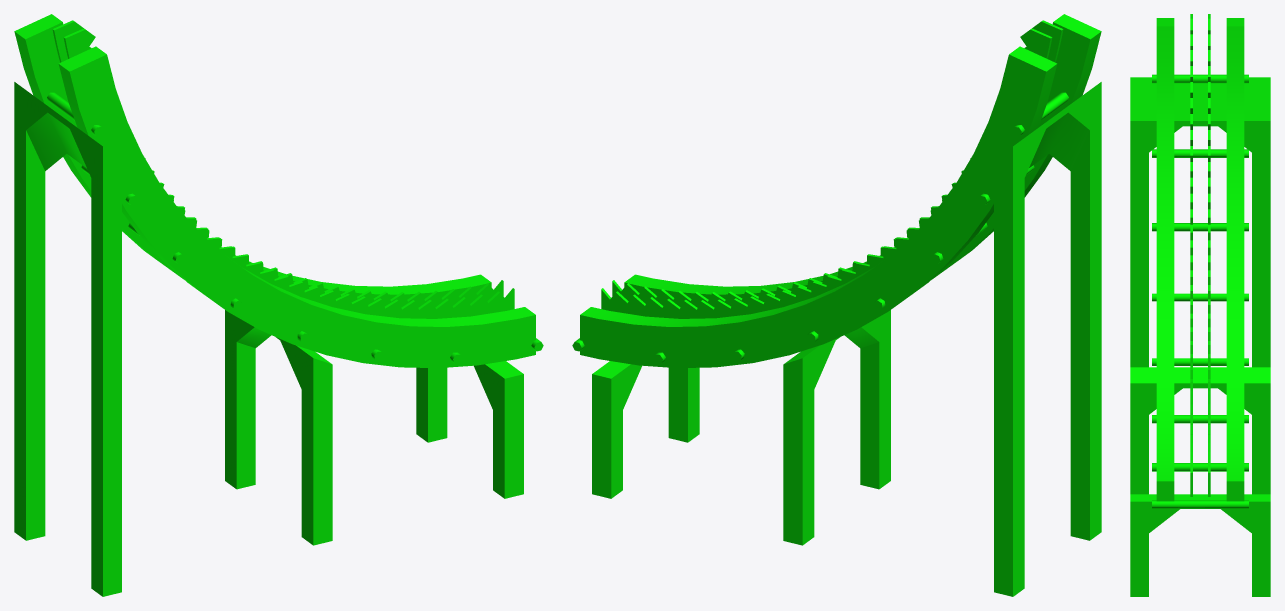
Rendered from Casting_EndCurve.fbx.
The picture shows the model from 3 angles, left to right: view 1: azimuth 30°, elevation 25°; view 2: azimuth 150°, elevation 25°; view 3: azimuth 270°, elevation 25°; orthographic projection. The views are drawn at different scales.
Parts seen in each view (by area): view 1: Casting_EndCurve_LOD0; view 2: Casting_EndCurve_LOD0; view 3: Casting_EndCurve_LOD0.
Part boxes in pixels (x1,y1,x2,y2): Casting_EndCurve_LOD0: [14, 14, 543, 596]; Casting_EndCurve_LOD0: [572, 14, 1101, 596]; Casting_EndCurve_LOD0: [1130, 14, 1270, 596].
Size of what is drawn, in the model's own units: 308 by 334 by 100.
